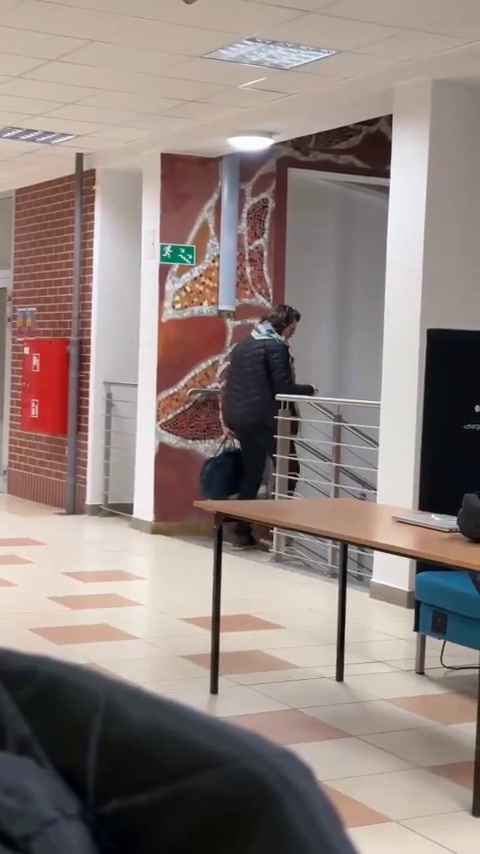no vest: (220, 300, 312, 557)
